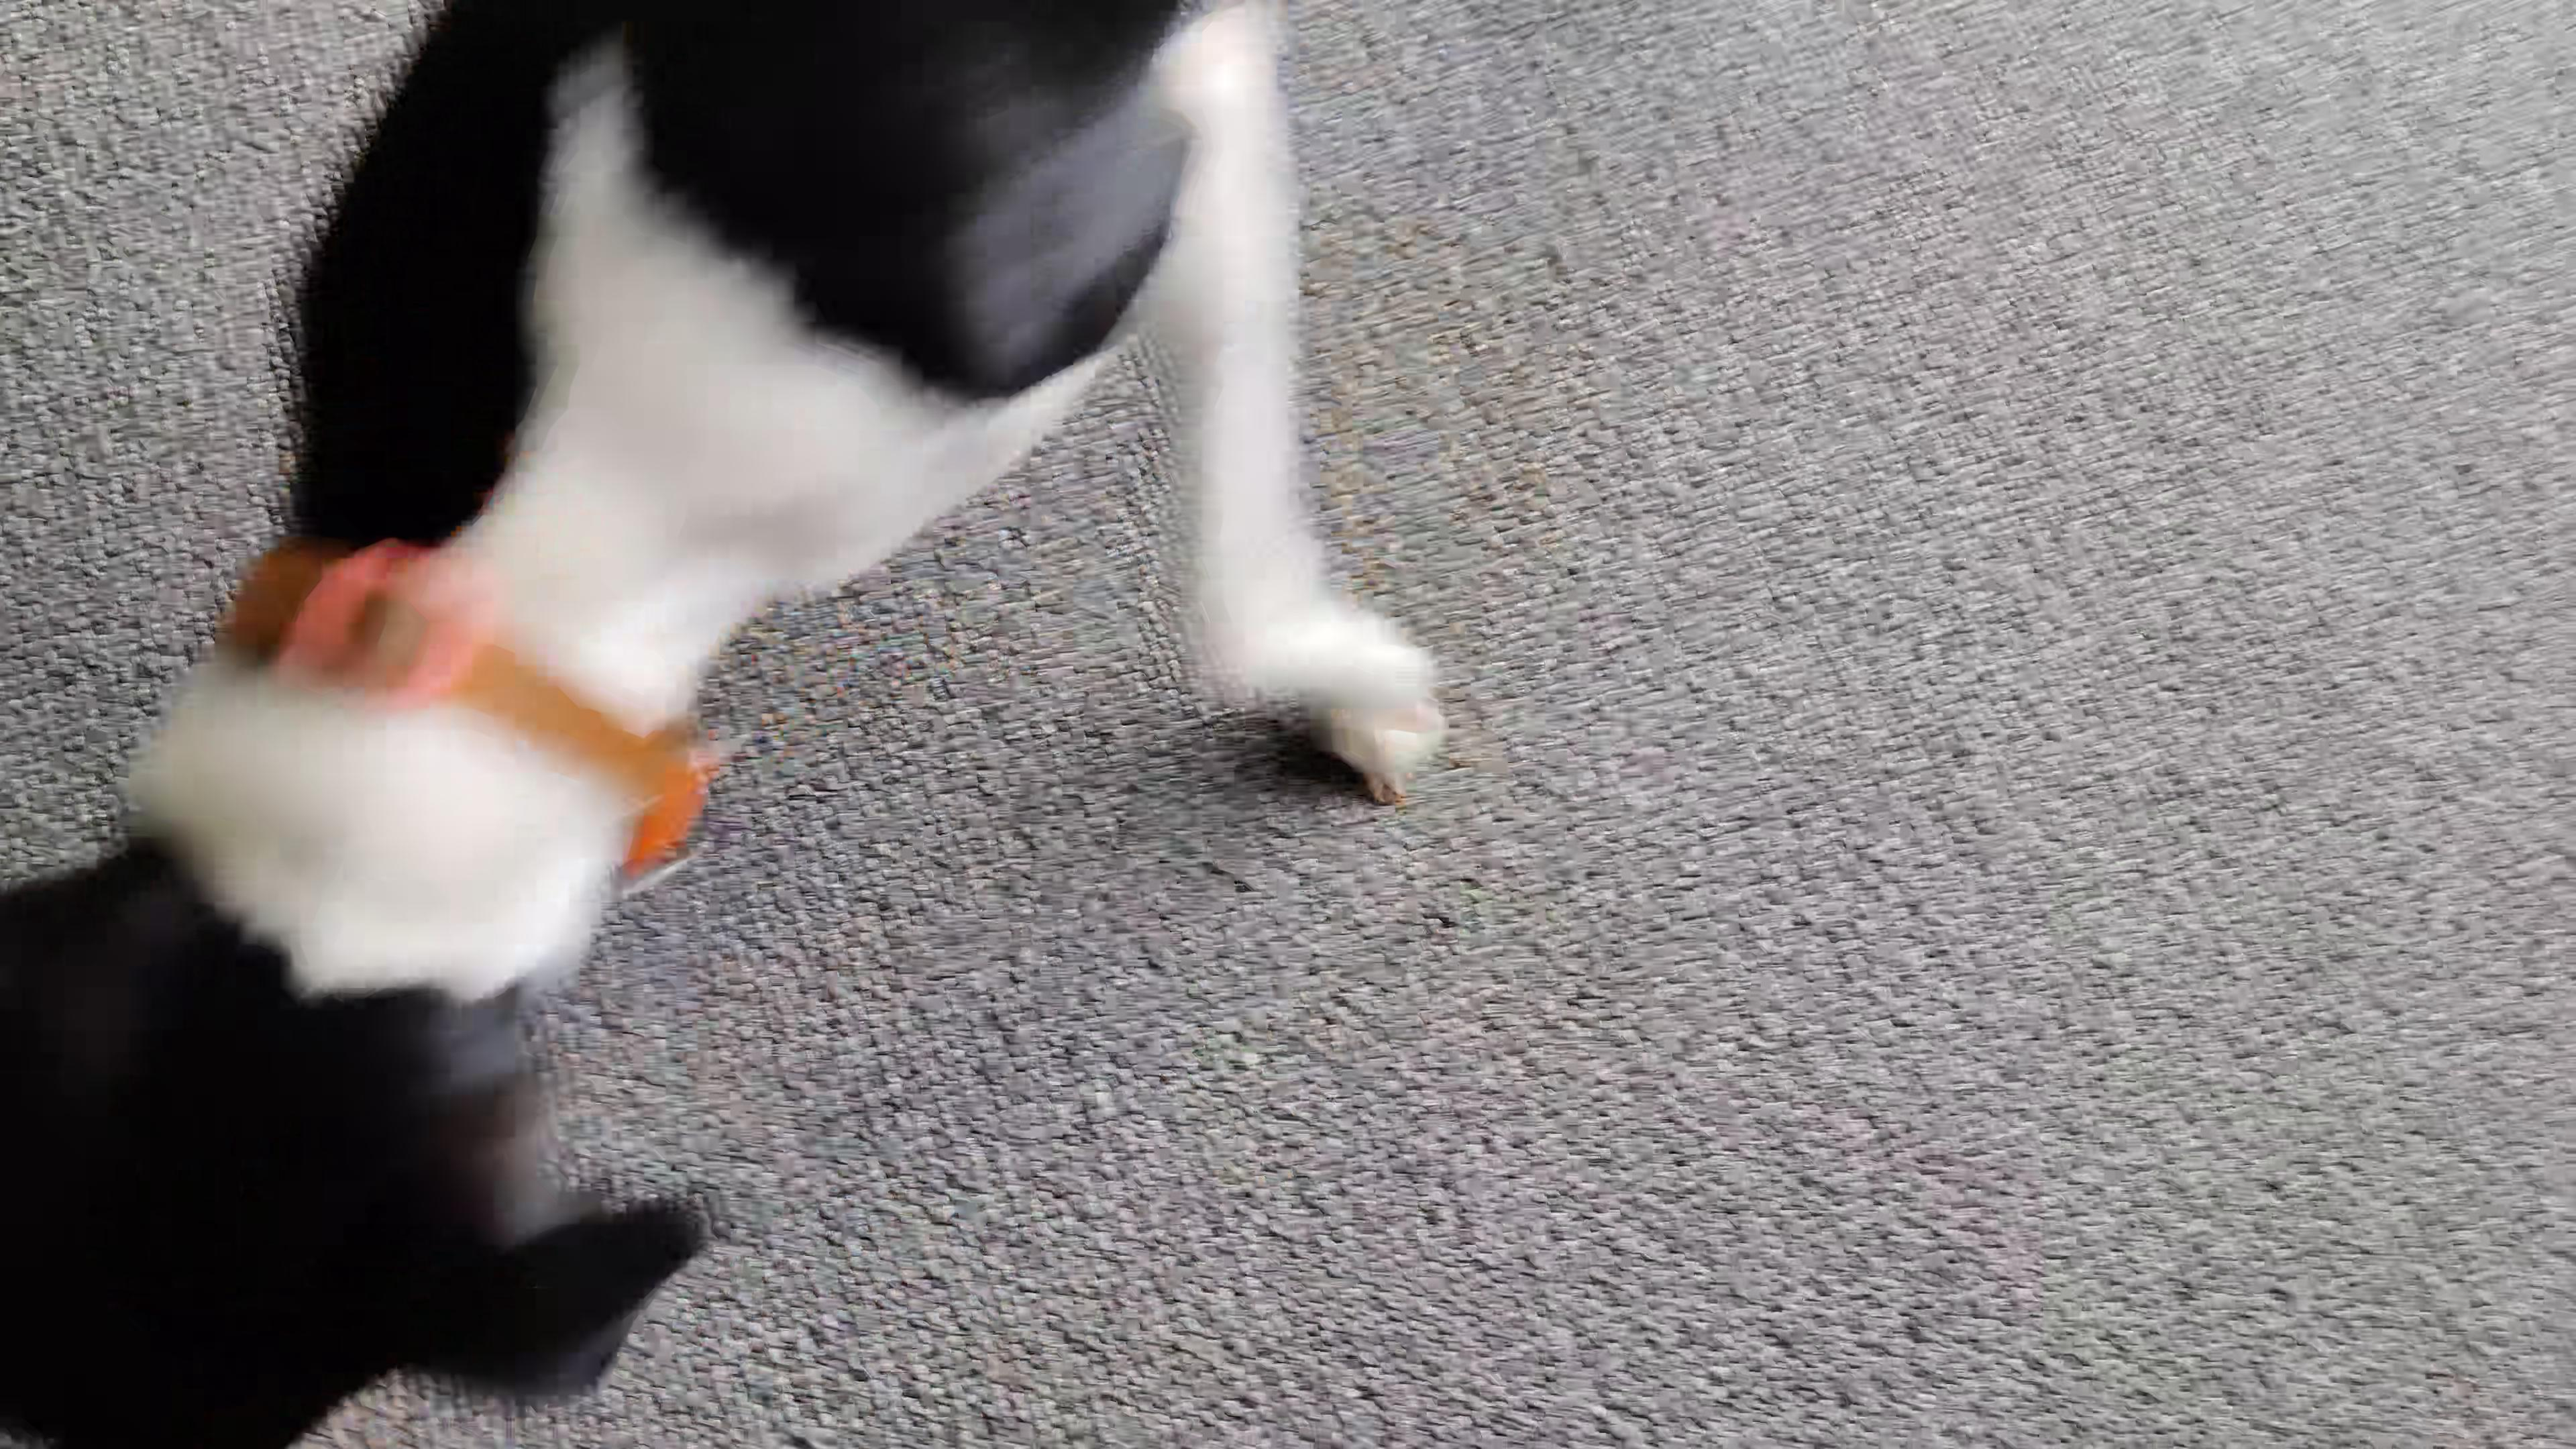Dog: (0, 0, 1454, 1449)
